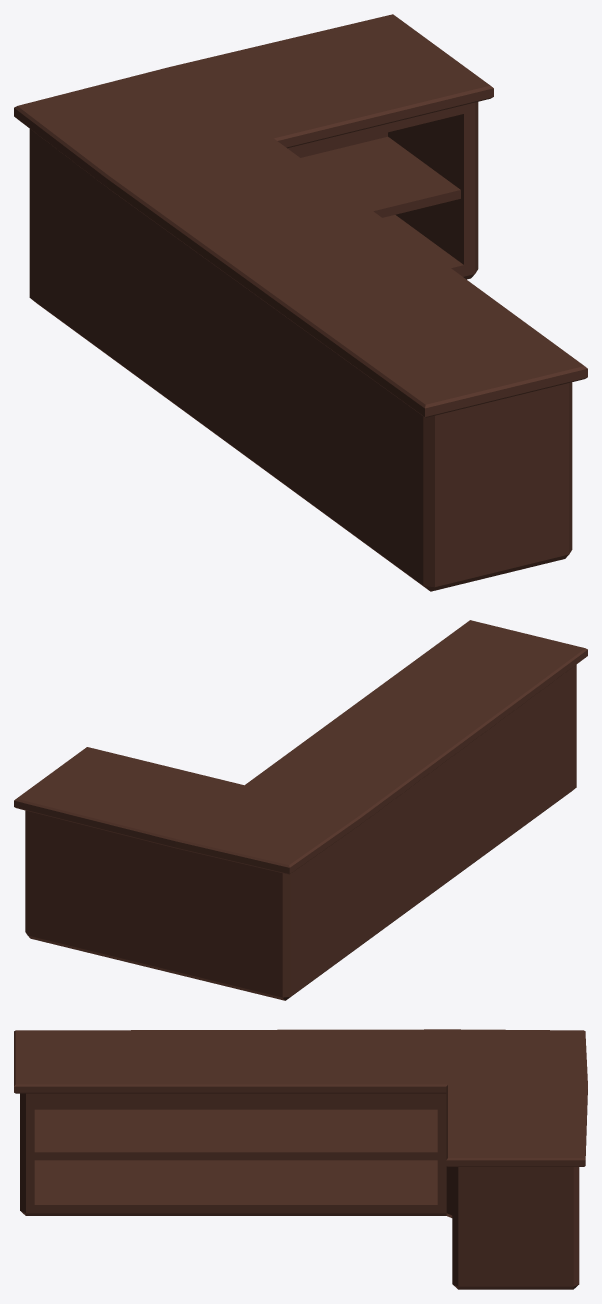
Rendered from bar.glb.
3 views of the same model, one above another, from view 1: azimuth 30°, elevation 25°; view 2: azimuth 150°, elevation 25°; view 3: azimuth 270°, elevation 25° (orthographic). The views are drawn at different scales.
Visible parts, largest first — view 1: Bar; view 2: Bar; view 3: Bar.
Boxes of the visible parts, x1,y1,x2,y2 form: Bar: (14, 14, 587, 591); Bar: (14, 620, 587, 1000); Bar: (14, 1029, 587, 1289).
Bounding box in the file's own units: 1.94 × 0.9438 × 3.62.
